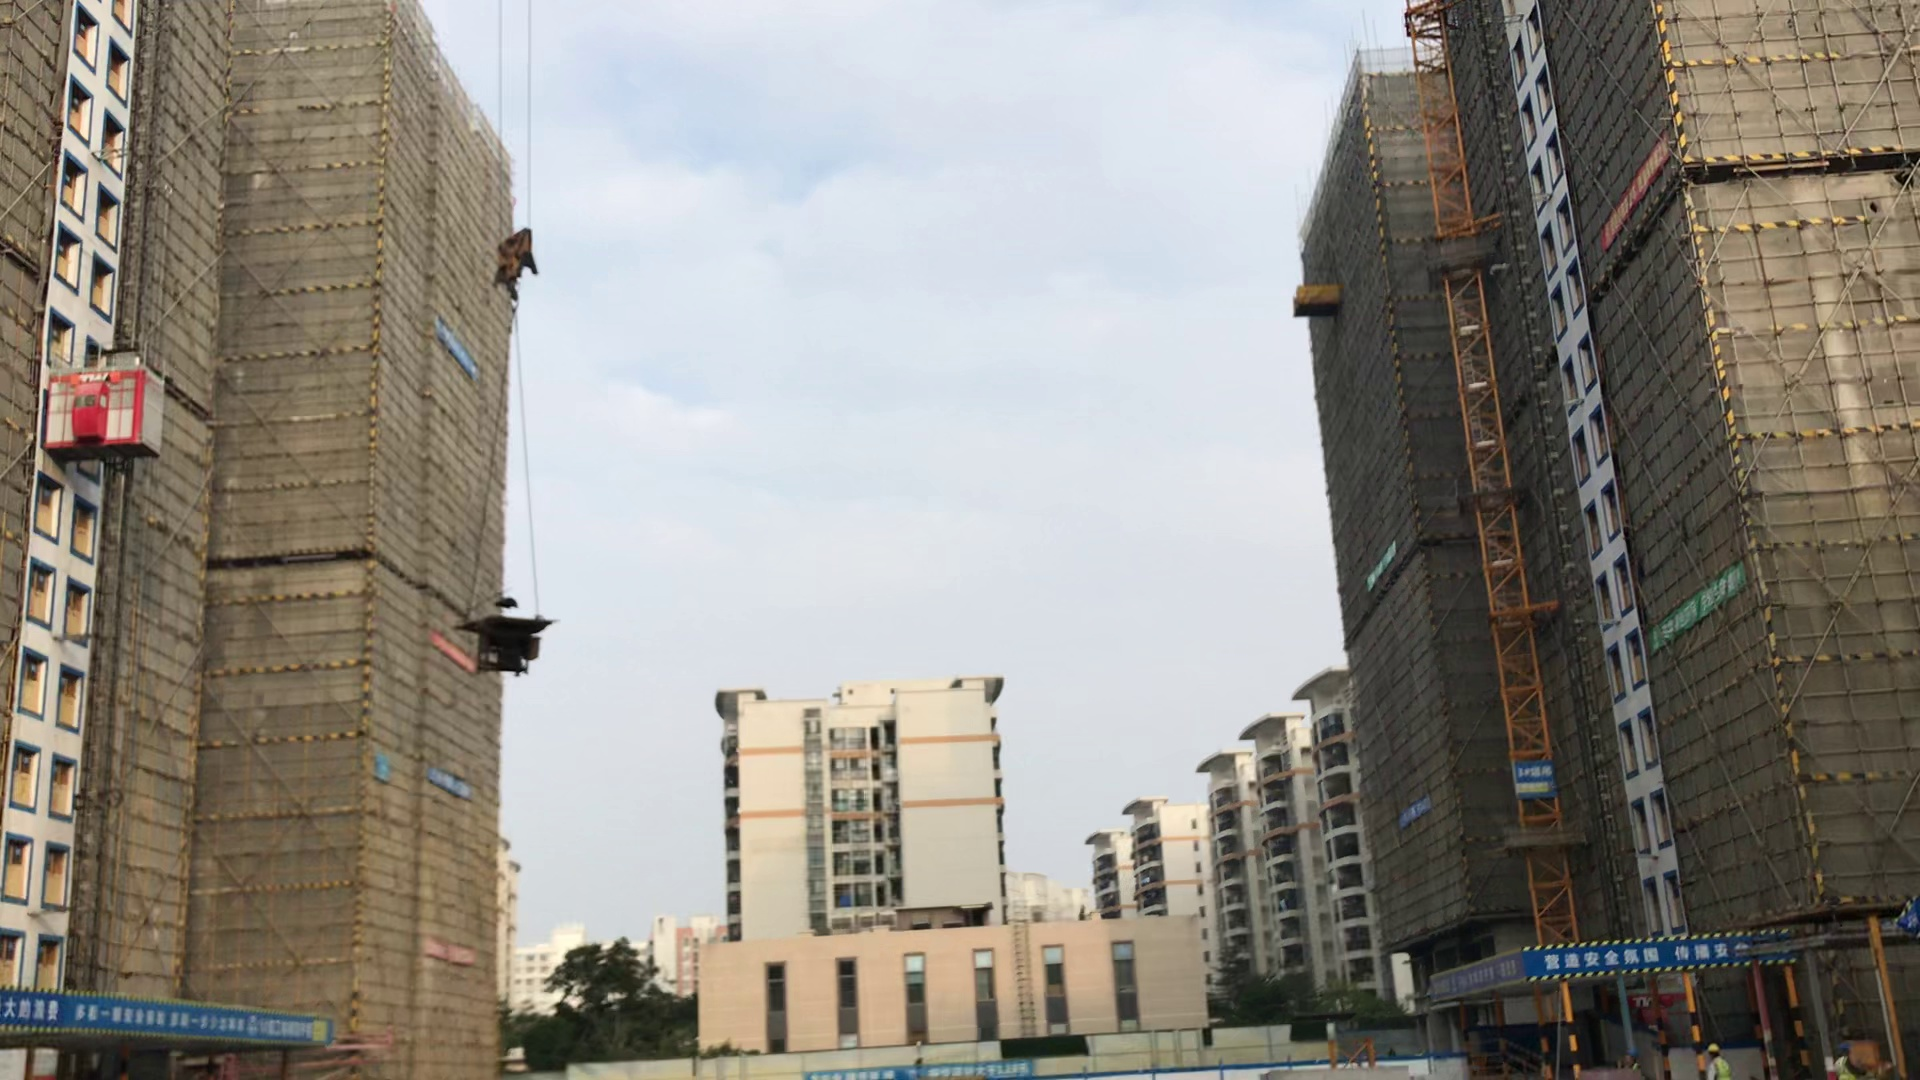hook: (487, 214, 549, 313)
slogan: (3, 989, 326, 1040), (1544, 935, 1787, 981), (1422, 942, 1549, 1001), (1650, 568, 1741, 650), (1607, 142, 1672, 244), (431, 322, 480, 378), (426, 637, 481, 676), (429, 936, 477, 967), (431, 773, 473, 800)
